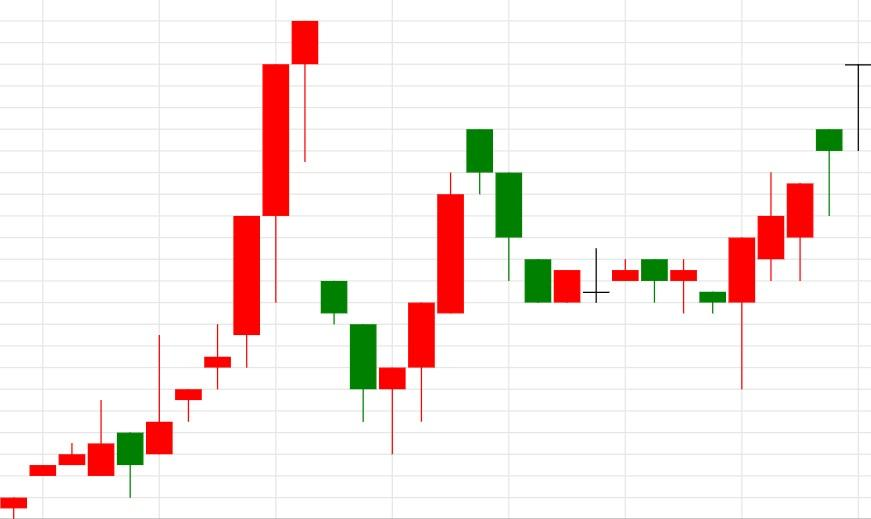bullish_engulfing_rise: (640, 236, 756, 391)
hammer_rise: (291, 20, 407, 454)
hanging_man_fall: (0, 20, 319, 518)
three_black_crows_fall: (378, 129, 551, 453)
